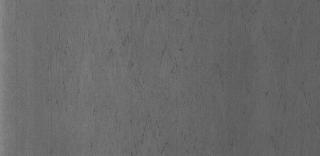silk spot: (91, 7, 251, 153)
